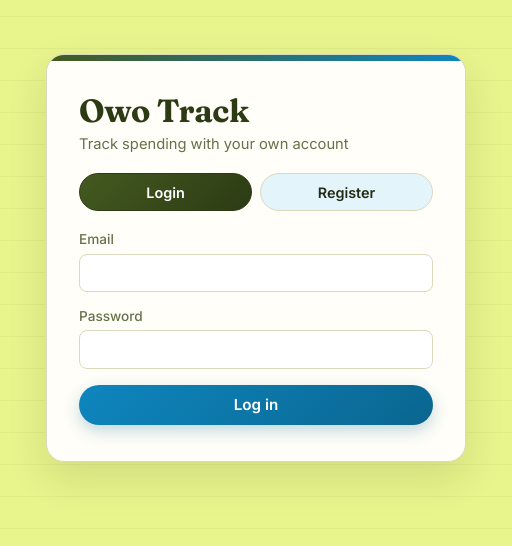
App auth flow › switches to the registration form and shows the full name field
expect the heading "Owo Track" is shown: met, box [79, 91, 249, 130]
expect the field labelled "Full name" is not shown: met
Click the button "Register": (346, 192) [260, 173, 433, 211]
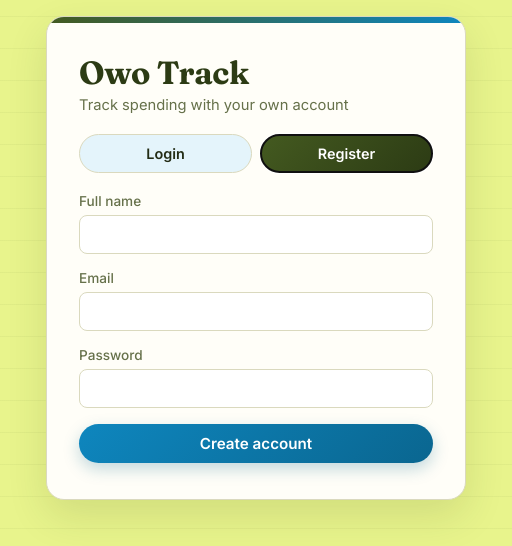
expect the field labelled "Full name" is shown: met, box [79, 215, 433, 254]
expect the button "Create account" is shown: met, box [79, 424, 433, 463]
